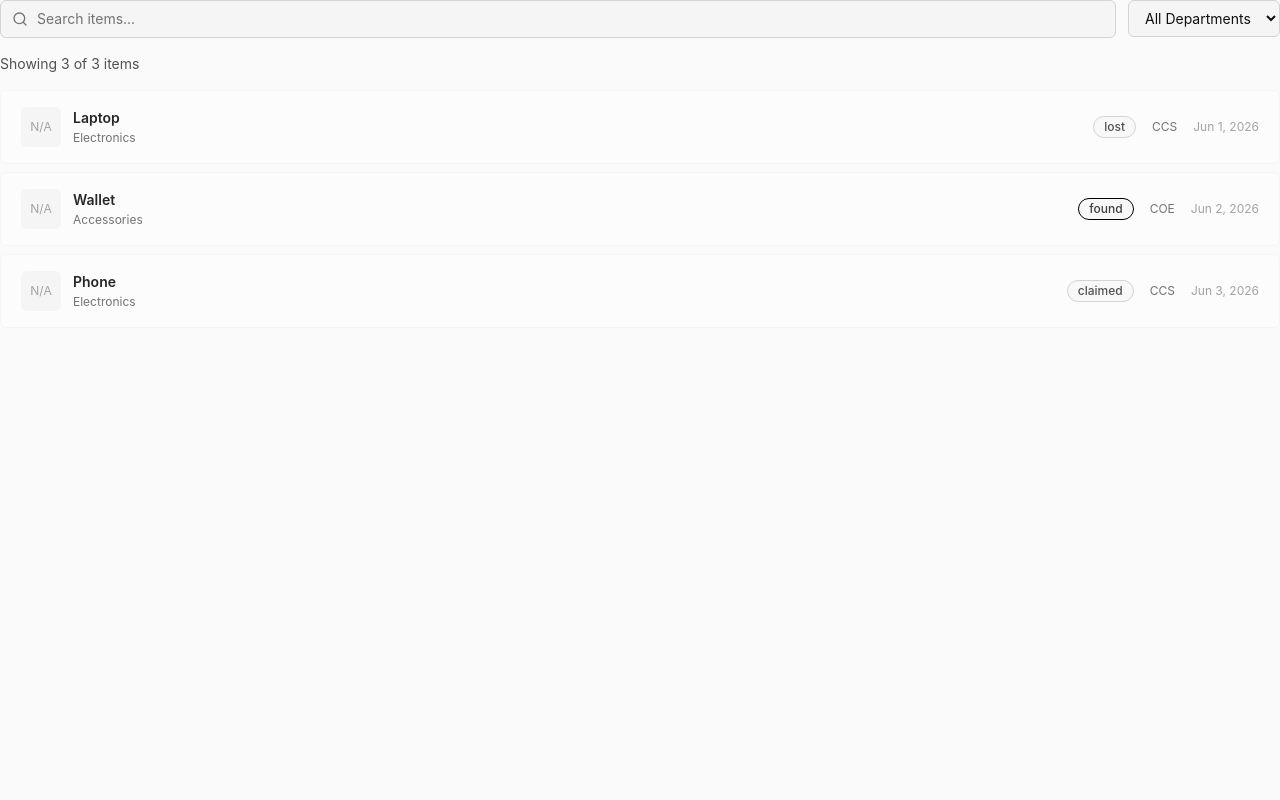
Scenario: GlobalLedger › detail modal › closes modal when clicking close button
The image size is (1280, 800).
Note: Open modal
Click the text "Laptop": (96, 118) left=73, top=109, right=120, bottom=126
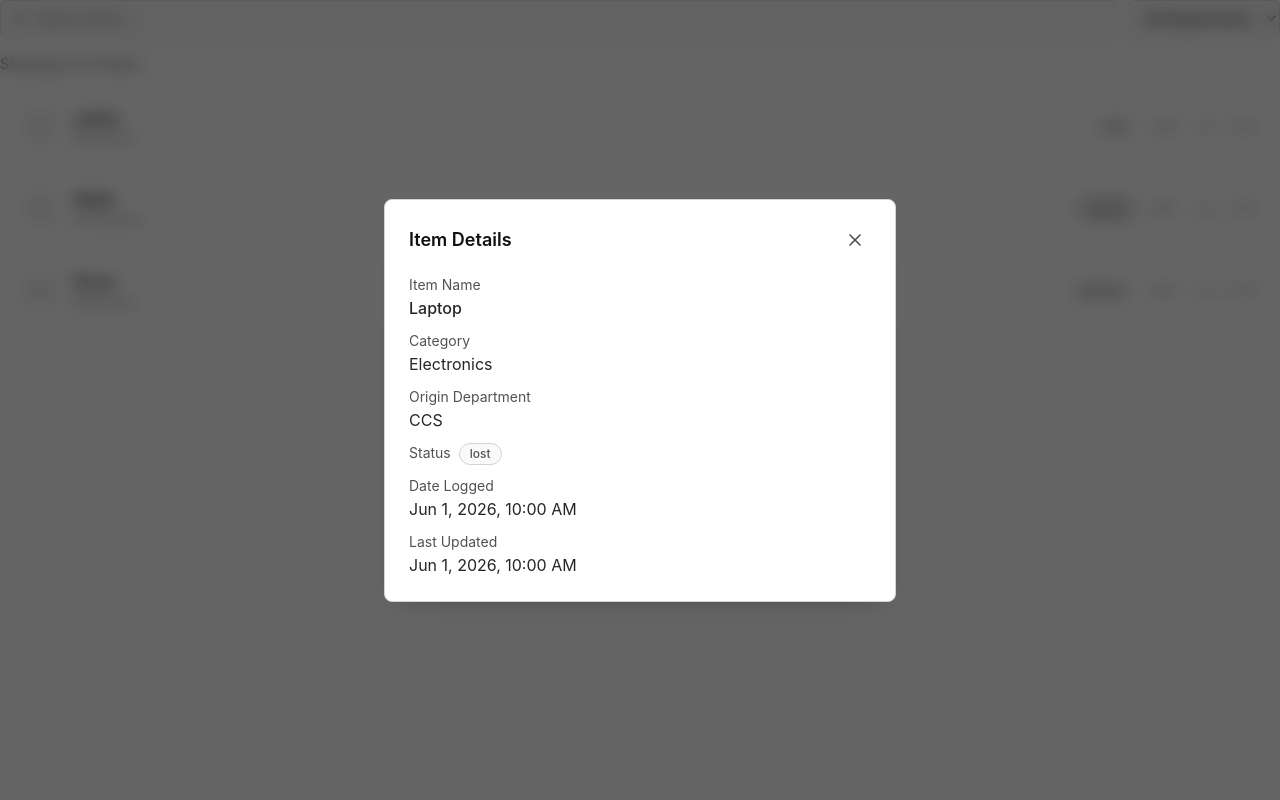
Now the heading "Item Details" is shown, box left=409, top=226, right=512, bottom=254
Note: Close modal
Click the button named "close": (855, 240) left=839, top=224, right=871, bottom=256
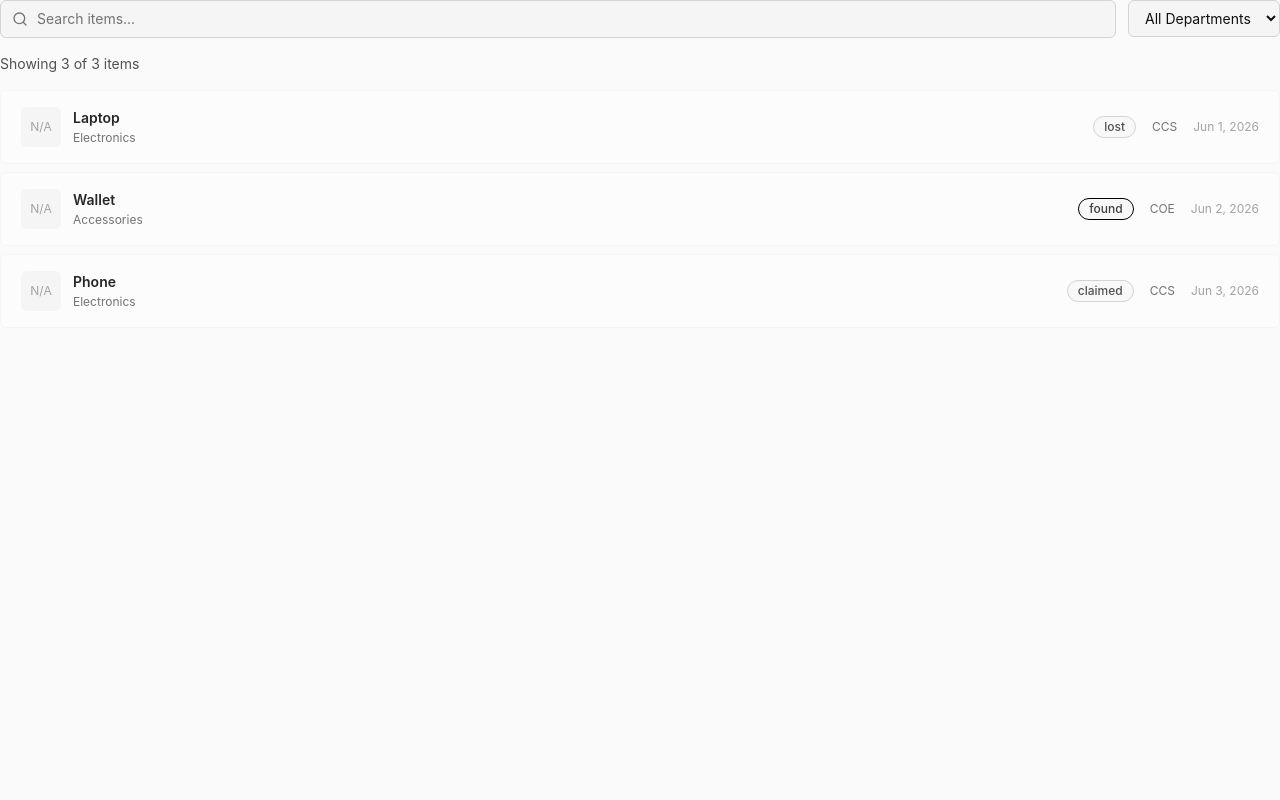
Now the heading "Item Details" is gone
